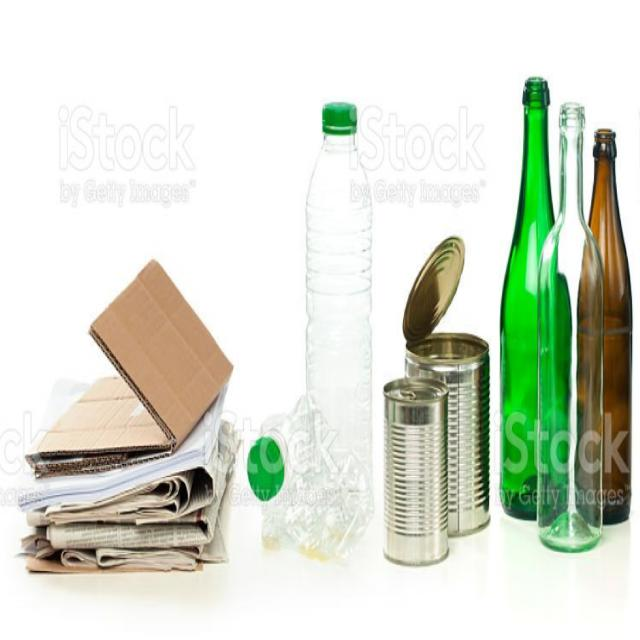dry: (20, 257, 238, 574), (252, 120, 378, 554), (382, 244, 495, 556)
